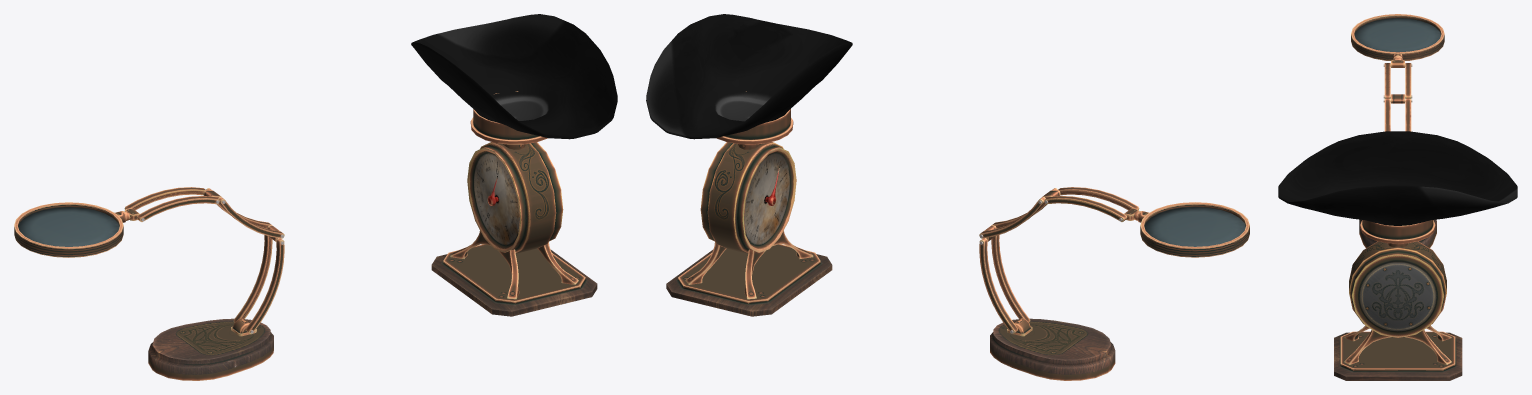
File: Libra_Magnifier.FBX
The picture shows the model from 3 angles, left to right: view 1: azimuth 30°, elevation 25°; view 2: azimuth 150°, elevation 25°; view 3: azimuth 270°, elevation 25°; orthographic projection. The views are drawn at different scales.
Parts seen in each view (by area): view 1: Object128, Object122, Object129, Object124, Object121, Object123, Object120; view 2: Object128, Object122, Object129, Object124, Object121, Object123, Object120; view 3: Object128, Object129, Object124, Object123, Object120, Object122.
Boxes of the visible parts, x1,y1,x2,y2 form: Object128: (411,14,617,316); Object122: (148,318,273,380); Object129: (18,207,119,246); Object124: (14,202,126,257); Object121: (233,225,284,334); Object123: (124,187,221,221); Object120: (206,188,284,238); Object128: (646,14,852,316); Object122: (990,318,1115,380); Object129: (1144,207,1245,246); Object124: (1137,202,1249,257); Object121: (979,225,1030,333); Object123: (1042,187,1139,221); Object120: (979,188,1057,238); Object128: (1278,131,1517,380); Object129: (1354,18,1440,52); Object124: (1351,14,1444,60); Object123: (1383,63,1412,103); Object120: (1383,98,1412,131); Object122: (1359,219,1436,247).
Size of the model in its own units: 147 by 63.8 by 60.12.
Materials: 1 (1 with a texture image).
